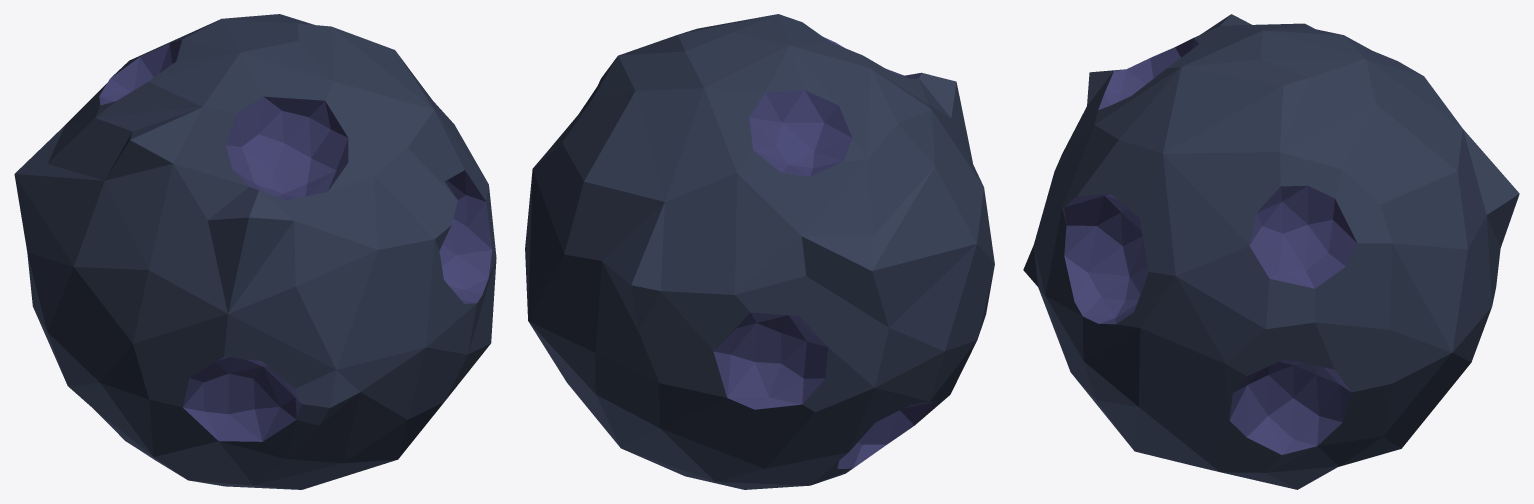
Rendered from Planet14.glb.
3 renders of one model, left to right at view 1: azimuth 30°, elevation 25°; view 2: azimuth 150°, elevation 25°; view 3: azimuth 270°, elevation 25°, orthographic.
Parts seen in each view (by area): view 1: Planet15; view 2: Planet15; view 3: Planet15.
Part boxes in pixels (x1,y1,x2,y2): Planet15: [14, 14, 496, 489]; Planet15: [525, 14, 994, 489]; Planet15: [1023, 14, 1519, 489].
Size of the model in its own units: 10.89 by 10.78 by 11.57.
Materials: 1 (1 with a texture image).
